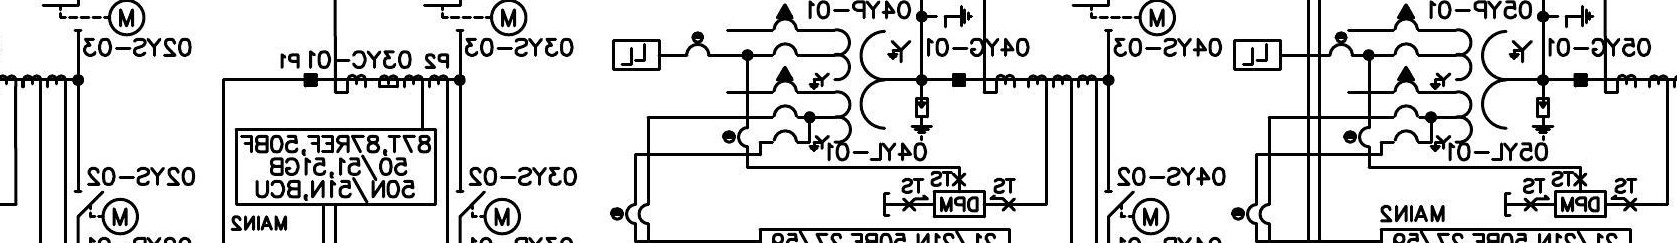115_1way_ds_w_motor: (73, 189, 141, 237), (455, 189, 522, 237), (1104, 189, 1171, 237)
115_gs: (1555, 4, 1596, 29), (934, 4, 974, 29)
115_la: (1532, 96, 1556, 142), (910, 96, 935, 142)
115_vt_3p: (1393, 2, 1534, 153), (771, 2, 912, 153)
DPM: (1555, 189, 1609, 218), (934, 189, 987, 218)
LL: (1233, 39, 1283, 72), (612, 39, 662, 72)
